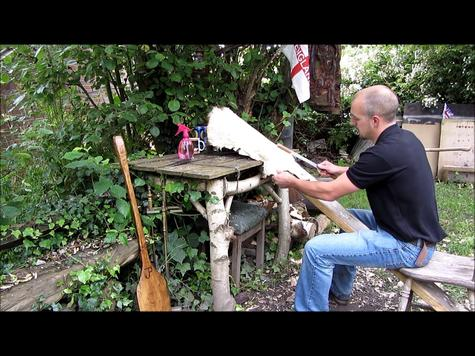sit: (170, 117, 197, 165)
